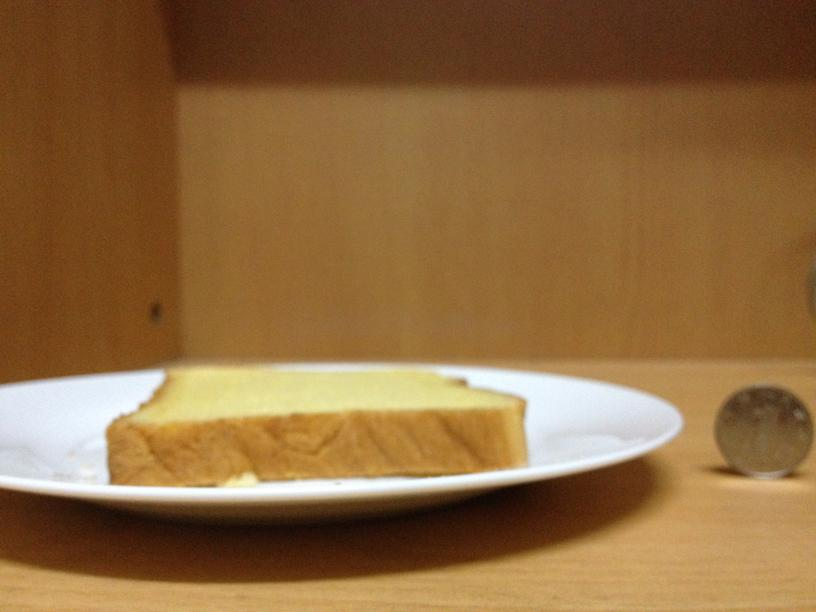bread: (106, 356, 527, 486)
coin: (712, 383, 813, 478)
